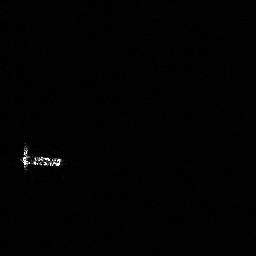ship: (22, 154, 61, 167)
